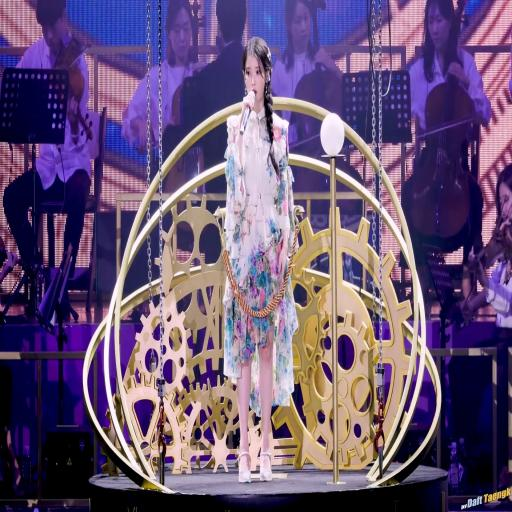IU: (242, 36, 273, 104)
